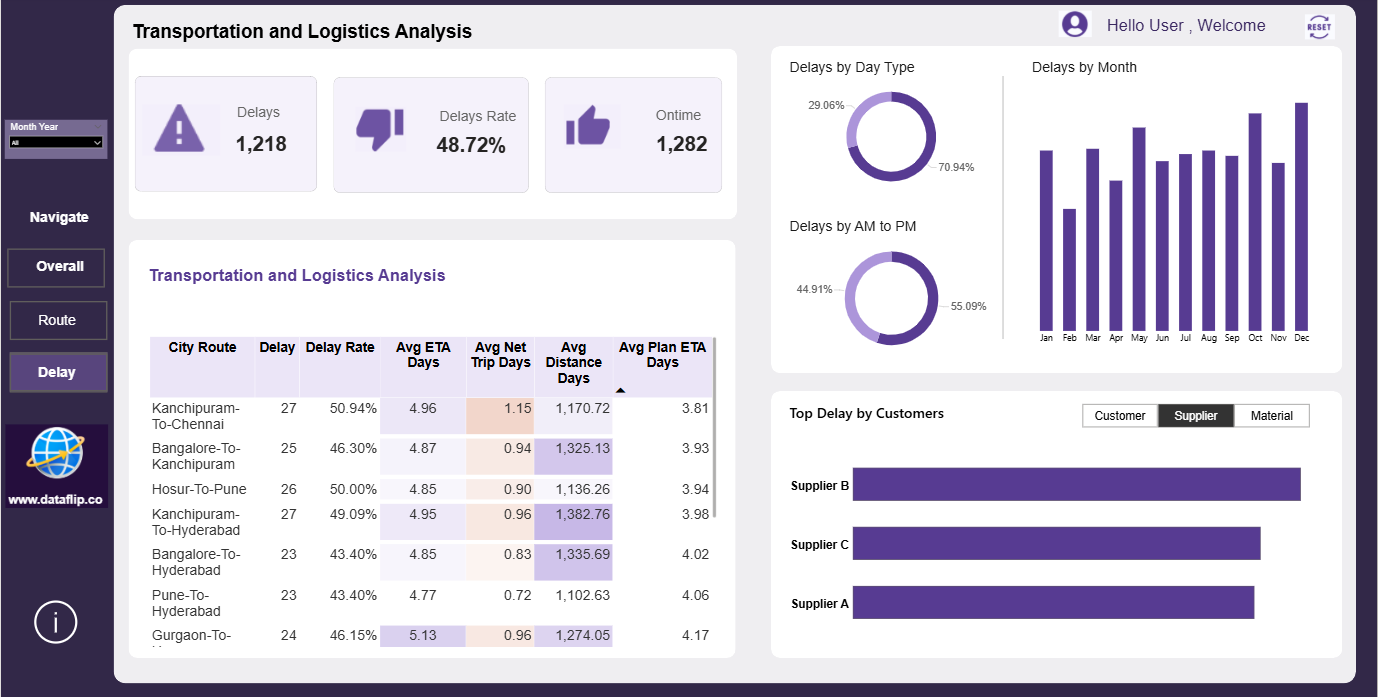

This screenshot's page, from the dashboard's own definition file:
{"tool":"powerbi","page":{"name":"Delay","canvas":[3120,1600],"ordinal":2},"visuals":[{"type":"shape","box":[254.7,18.5,2817.4,1539.1],"z":0},{"type":"textbox","box":[292.4,50.3,845.8,72.9],"z":1000},{"type":"shape","box":[287.9,118.1,1380.4,387.5],"z":2000},{"type":"shape","box":[287.9,553.6,1376.7,948.6],"z":3000},{"type":"shape","box":[1745.8,896.9,1295.5,605.3],"z":4000},{"type":"image","box":[1251.2,239.9,180.9,110.7],"z":5000},{"type":"image","box":[749.2,247.3,225.1,110.7],"z":6000},{"type":"shape","box":[1745.8,114.4,1295.5,741.9],"z":7000},{"type":"clusteredBarChart","title":"Top 5 Most booked Drivers","fields":{"Category":["Transportation.Supplier"],"Y":["Transportation.DelayDelivery"]},"box":[1782.7,1003.9,1206.9,476.1],"z":8000},{"type":"textbox","box":[329.7,606.5,1184.8,70.1],"z":9000},{"type":"textbox","box":[7.4,479.8,247.3,73.8],"z":10000},{"type":"actionButton","box":[18.5,808.3,221.5,88.6],"z":11000},{"type":"textbox","box":[44.3,590.5,177.2,55.4],"z":12000},{"type":"actionButton","box":[18.5,812,221.5,88.6],"z":13000},{"type":"textbox","box":[25.8,712.3,203,66.4],"z":14000},{"type":"actionButton","box":[18.5,690.2,221.5,88.6],"z":15000},{"type":"textbox","box":[18.5,830.4,214.1,48],"z":16000},{"type":"image","box":[3.7,967,247.3,199.3],"z":17000},{"type":"image","box":[2923.2,36.9,136.6,66.4],"z":18000},{"type":"image","box":[2358.5,29.5,155,70.1],"z":19000},{"type":"textbox","box":[2503.6,40.6,498.3,70.1],"z":20000},{"type":"actionButton","box":[64,1359.5,121.8,118.1],"z":21000},{"type":"donutChart","title":"Delays by Day Type","fields":{"Category":["Transportation.Day Types"],"Y":["Transportation.DelayDelivery"]},"box":[1782.7,143.9,472.4,313.7],"z":22000},{"type":"donutChart","title":"Delays by AM to PM","fields":{"Y":["Transportation.DelayDelivery"],"Category":["Transportation.AM_PM"]},"box":[1782,504.2,473.4,327.1],"z":23000},{"type":"textbox","box":[1782.7,919,420.8,84.9],"z":24000},{"type":"image","box":[302.7,239.9,210.4,125.5],"z":25000},{"type":"shape","box":[302.7,180.9,413.4,262.1],"z":26000},{"type":"shape","box":[752.9,184.5,442.9,262.1],"z":27000},{"type":"shape","box":[1232.8,184.5,402.3,262.1],"z":28000},{"type":"card","fields":{"Values":["Transportation.DelayDelivery"]},"box":[479.8,295.3,221.5,73.8],"z":29000},{"type":"card","fields":{"Values":["Transportation.DelayedDelivery %"]},"box":[963.3,302.7,206.7,62.7],"z":30000},{"type":"card","fields":{"Values":["Transportation.OntimeDeliveries"]},"box":[1421,291.6,247.3,81.2],"z":31000},{"type":"textbox","box":[529,239.9,247.3,48],"z":32000},{"type":"textbox","box":[989.2,249.7,247.3,48],"z":33000},{"type":"textbox","box":[1480,247.3,247.3,48],"z":34000},{"type":"actionButton","box":[14.8,572.1,221.5,88.6],"z":35000},{"type":"slicer","fields":{"Values":["Calendar.Year","Calendar.Month Year"]},"box":[7.4,280.5,232.5,88.6],"z":36000},{"type":"clusteredColumnChart","fields":{"Category":["Calendar.Month Name"],"Y":["Transportation.DelayDelivery"]},"box":[2328.9,184.5,660.7,616.4],"z":37000},{"type":"textbox","box":[2332.6,140.3,420.8,84.9],"z":38000},{"type":"slicer","fields":{"Values":["Parameter 3.Parameter"]},"box":[2424.9,919,564.7,66.4],"z":39000},{"type":"tableEx","fields":{"Values":["Transportation.State Route","Transportation.DelayDelivery","Transportation.DelayedDelivery %","Transportation.Avg ETA Days","Transportation.Avg Net Trip Days","Transportation.Avg Distance Days","Transportation.Avg Plan ETA Days"]},"box":[332.2,767.7,1295.5,712.3],"z":40000},{"type":"shape","box":[2228.4,180.9,88.5,596.6],"z":41000}]}

Visuals, with their boxes in screenshot pixels (x1, y1, x2, y2), scaled from the page's 3120x1600 canvas onto the 1378x697 screenshot:
shape: select_region(112, 8, 1357, 679)
textbox: select_region(129, 22, 503, 54)
shape: select_region(127, 51, 737, 220)
shape: select_region(127, 241, 735, 654)
shape: select_region(771, 391, 1343, 654)
image: select_region(553, 105, 633, 153)
image: select_region(331, 108, 430, 156)
shape: select_region(771, 50, 1343, 373)
"Top 5 Most booked Drivers" clusteredBarChart: select_region(787, 437, 1320, 645)
textbox: select_region(146, 264, 669, 295)
textbox: select_region(3, 209, 112, 241)
actionButton: select_region(8, 352, 106, 391)
textbox: select_region(20, 257, 98, 281)
actionButton: select_region(8, 354, 106, 392)
textbox: select_region(11, 310, 101, 339)
actionButton: select_region(8, 301, 106, 339)
textbox: select_region(8, 362, 103, 383)
image: select_region(2, 421, 111, 508)
image: select_region(1291, 16, 1351, 45)
image: select_region(1042, 13, 1110, 43)
textbox: select_region(1106, 18, 1326, 48)
actionButton: select_region(28, 592, 82, 644)
"Delays by Day Type" donutChart: select_region(787, 63, 996, 199)
"Delays by AM to PM" donutChart: select_region(787, 220, 996, 362)
textbox: select_region(787, 400, 973, 437)
image: select_region(134, 105, 227, 159)
shape: select_region(134, 79, 316, 193)
shape: select_region(333, 80, 528, 195)
shape: select_region(544, 80, 722, 195)
card - Transportation.DelayDelivery: select_region(212, 129, 310, 161)
card - Transportation.DelayedDelivery %: select_region(425, 132, 517, 159)
card - Transportation.OntimeDeliveries: select_region(628, 127, 737, 162)
textbox: select_region(234, 105, 343, 125)
textbox: select_region(437, 109, 546, 130)
textbox: select_region(654, 108, 763, 129)
actionButton: select_region(7, 249, 104, 288)
slicer - Calendar.Year x Calendar.Month Year: select_region(3, 122, 106, 161)
clusteredColumnChart - Calendar.Month Name x Transportation.DelayDelivery: select_region(1029, 80, 1320, 349)
textbox: select_region(1030, 61, 1216, 98)
slicer - Parameter 3.Parameter: select_region(1071, 400, 1320, 429)
tableEx - Transportation.State Route x Transportation.DelayDelivery: select_region(147, 334, 719, 645)
shape: select_region(984, 79, 1023, 339)
